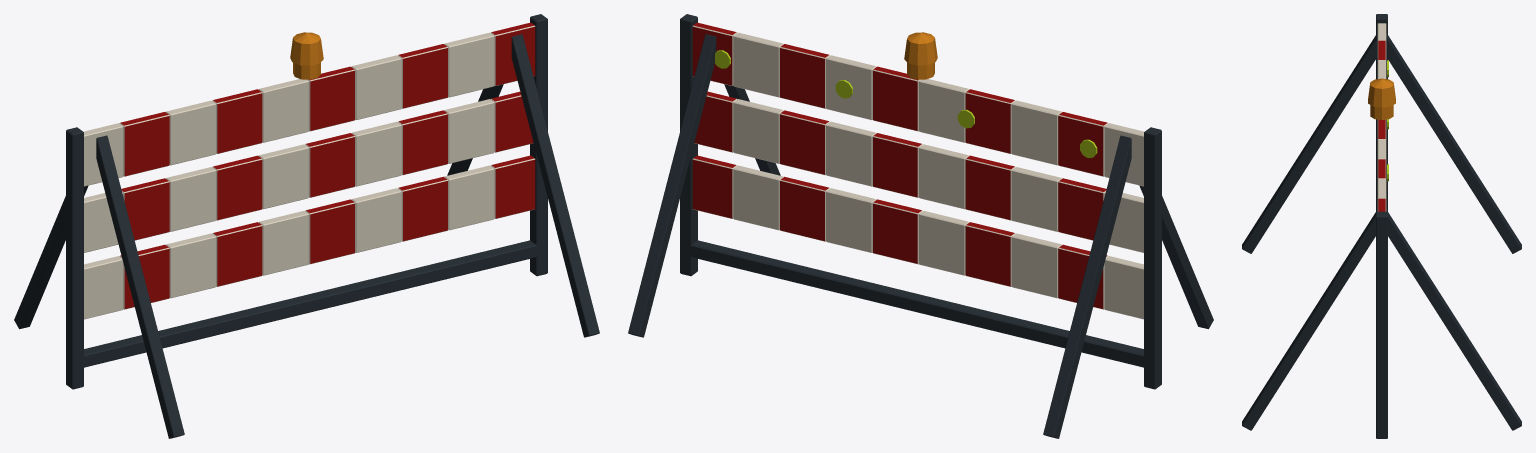
The model's file is RESCUE_03_PortableBarricade.obj.
The picture shows the model from 3 angles, left to right: view 1: azimuth 30°, elevation 25°; view 2: azimuth 150°, elevation 25°; view 3: azimuth 270°, elevation 25°; orthographic projection. The views are drawn at different scales.
Visible parts, largest first — view 1: RESCUE_03_PortableBarricade_Board_Low, RESCUE_03_PortableBarricade_Board_Mid, RESCUE_03_PortableBarricade_Board_Top, RESCUE_03_PortableBarricade_Frame, RESCUE_03_PortableBarricade_Legs_L, RESCUE_03_PortableBarricade_Legs_R, RESCUE_03_PortableBarricade_Lamp; view 2: RESCUE_03_PortableBarricade_Board_Low, RESCUE_03_PortableBarricade_Board_Mid, RESCUE_03_PortableBarricade_Board_Top, RESCUE_03_PortableBarricade_Frame, RESCUE_03_PortableBarricade_Legs_L, RESCUE_03_PortableBarricade_Legs_R, RESCUE_03_PortableBarricade_Lamp, RESCUE_03_PortableBarricade_Reflectors; view 3: RESCUE_03_PortableBarricade_Legs_L, RESCUE_03_PortableBarricade_Legs_R, RESCUE_03_PortableBarricade_Frame, RESCUE_03_PortableBarricade_Board_Top, RESCUE_03_PortableBarricade_Lamp.
Part boxes in pixels (x1,y1,x2,y2): RESCUE_03_PortableBarricade_Board_Low: (84, 155, 535, 319); RESCUE_03_PortableBarricade_Board_Mid: (84, 91, 533, 252); RESCUE_03_PortableBarricade_Board_Top: (83, 22, 535, 186); RESCUE_03_PortableBarricade_Frame: (66, 14, 547, 389); RESCUE_03_PortableBarricade_Legs_L: (14, 135, 184, 438); RESCUE_03_PortableBarricade_Legs_R: (447, 34, 599, 337); RESCUE_03_PortableBarricade_Lamp: (290, 32, 323, 79); RESCUE_03_PortableBarricade_Board_Low: (692, 155, 1143, 319); RESCUE_03_PortableBarricade_Board_Mid: (694, 91, 1143, 252); RESCUE_03_PortableBarricade_Board_Top: (692, 22, 1144, 186); RESCUE_03_PortableBarricade_Frame: (680, 14, 1161, 389); RESCUE_03_PortableBarricade_Legs_L: (1043, 135, 1213, 438); RESCUE_03_PortableBarricade_Legs_R: (628, 34, 780, 337); RESCUE_03_PortableBarricade_Lamp: (904, 32, 937, 79); RESCUE_03_PortableBarricade_Reflectors: (715, 50, 1097, 158); RESCUE_03_PortableBarricade_Legs_L: (1242, 33, 1521, 253); RESCUE_03_PortableBarricade_Legs_R: (1242, 210, 1521, 430); RESCUE_03_PortableBarricade_Frame: (1376, 14, 1387, 438); RESCUE_03_PortableBarricade_Board_Top: (1377, 23, 1386, 211); RESCUE_03_PortableBarricade_Lamp: (1368, 78, 1395, 119).
Size of the model in its own units: 1.95 by 1.17 by 1.14.
